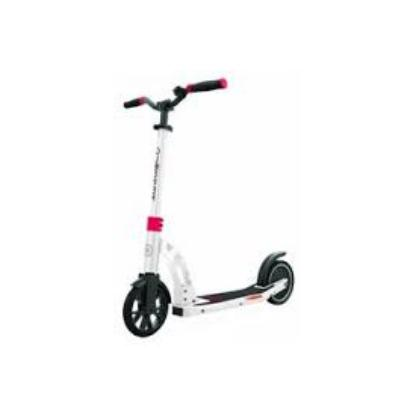bike: (120, 77, 294, 339)
